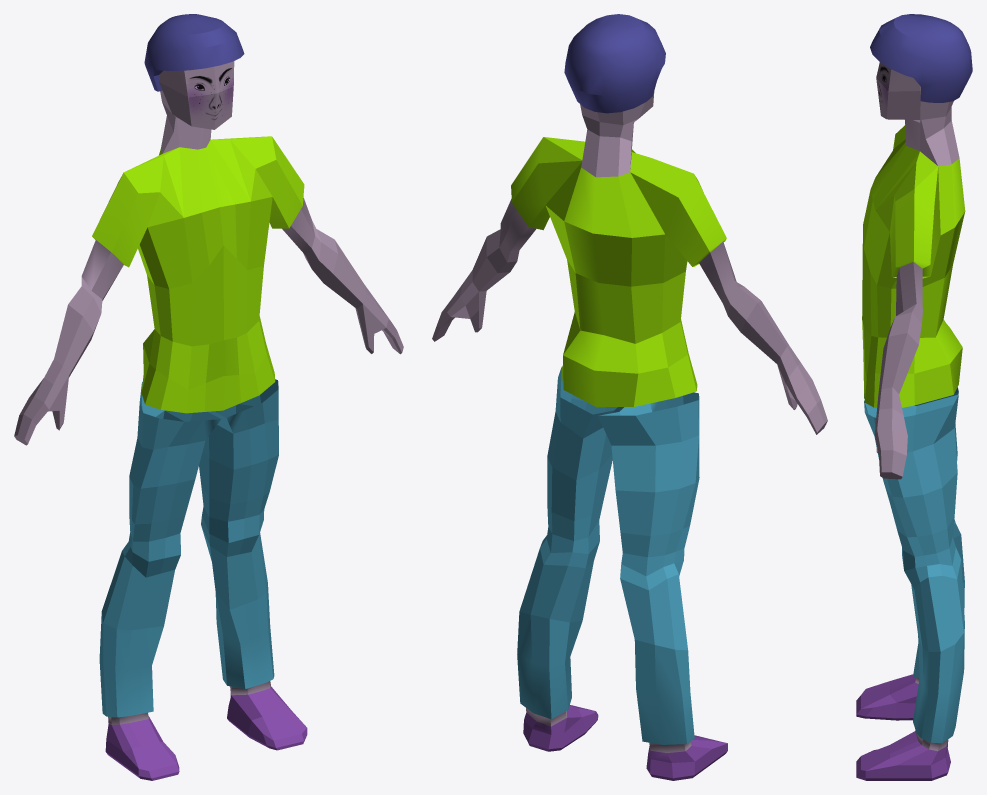
File: bully.fbx
3 renders of one model, left to right at view 1: azimuth 30°, elevation 25°; view 2: azimuth 150°, elevation 25°; view 3: azimuth 270°, elevation 25°, orthographic.
Visible parts, largest first — view 1: Thief_Torso, thief_Right_Leg, Thief_Left_Leg; view 2: Thief_Torso, thief_Right_Leg, Thief_Left_Leg; view 3: Thief_Torso, Thief_Left_Leg, thief_Right_Leg.
Part boxes in pixels (box(x1,y1,x2,y2)): Thief_Torso: box(14, 14, 403, 445); thief_Right_Leg: box(99, 382, 220, 780); Thief_Left_Leg: box(199, 379, 307, 750); Thief_Torso: box(432, 14, 827, 434); thief_Right_Leg: box(598, 392, 727, 780); Thief_Left_Leg: box(517, 367, 623, 751); Thief_Torso: box(862, 14, 972, 479); Thief_Left_Leg: box(856, 394, 964, 780); thief_Right_Leg: box(856, 387, 964, 720).
Size of the model in its own units: 23.55 by 42.2 by 6.21.
